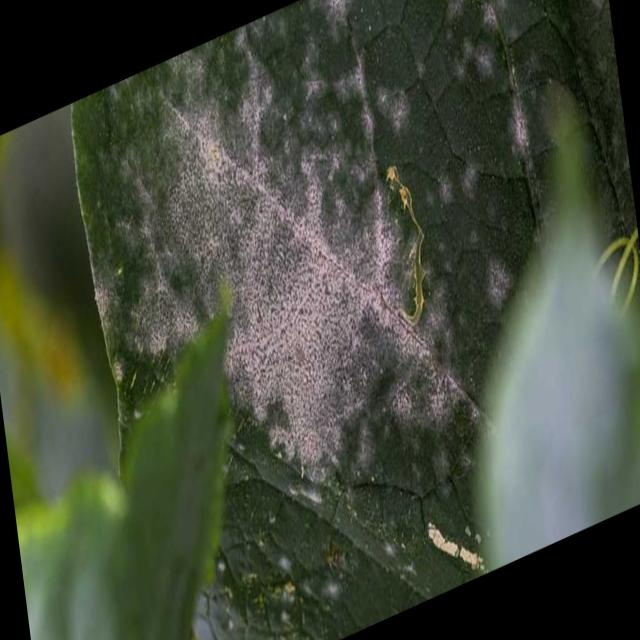Powdery Mildew: (134, 32, 484, 488)
